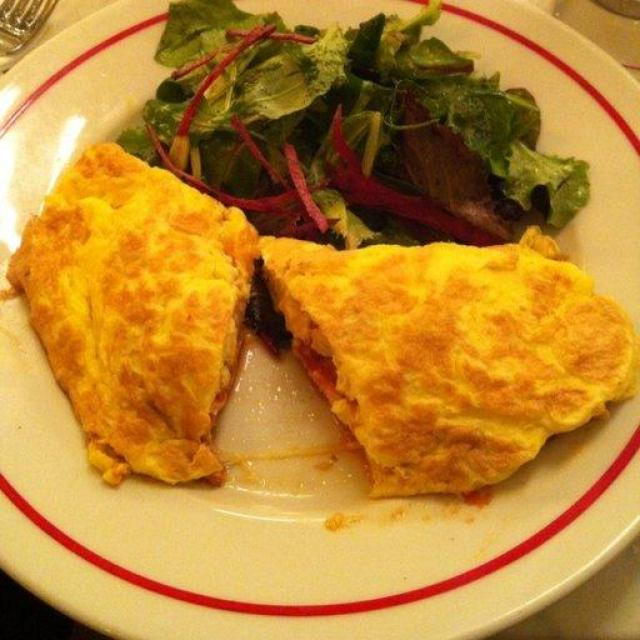food_waste: (2, 1, 640, 591)
